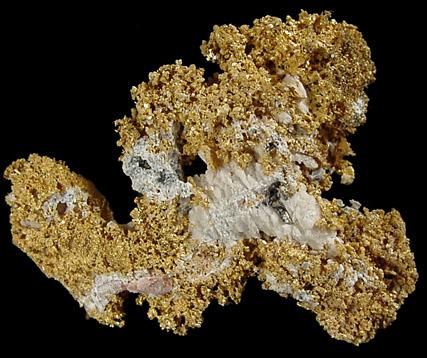gold: (116, 10, 377, 196), (4, 154, 185, 300), (254, 201, 418, 344), (138, 240, 278, 336), (96, 294, 126, 328)
